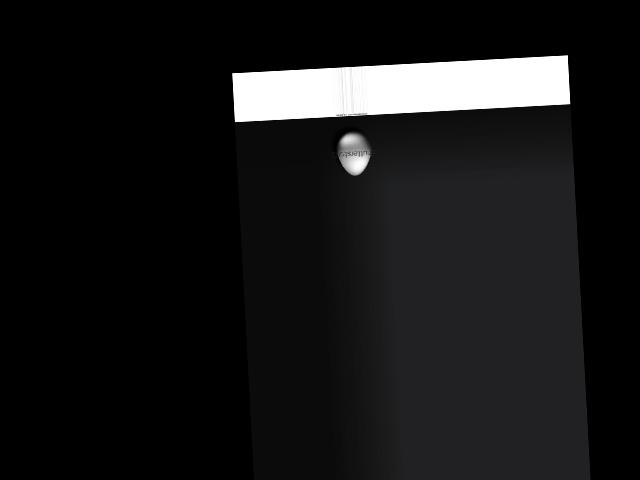egg: (335, 130, 372, 177)
